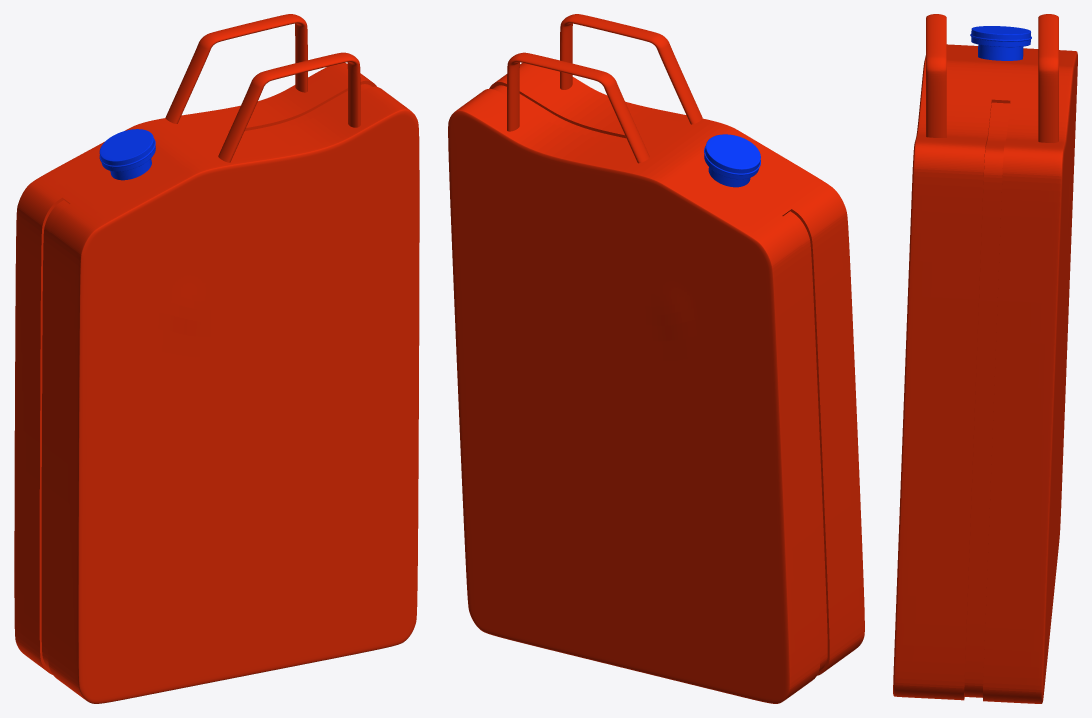
Rendered from petrolBottle.fbx.
3 renders of one model, left to right at view 1: azimuth 30°, elevation 25°; view 2: azimuth 150°, elevation 25°; view 3: azimuth 270°, elevation 25°, orthographic. The views are drawn at different scales.
Parts seen in each view (by area): view 1: Object.001, Plane.002, Plane.003, Cube.002; view 2: Object.001, Plane.003, Plane.002, Cube.002; view 3: Object.001, Plane.003, Plane.002, Cube.002.
Boxes of the visible parts, x1,y1,x2,y2 form: Object.001: [14, 62, 419, 703]; Plane.002: [218, 52, 360, 162]; Plane.003: [165, 14, 307, 123]; Cube.002: [99, 129, 155, 180]; Object.001: [448, 63, 864, 703]; Plane.003: [507, 52, 649, 163]; Plane.002: [560, 14, 702, 124]; Cube.002: [704, 134, 760, 187]; Object.001: [893, 44, 1077, 703]; Plane.003: [1038, 14, 1058, 142]; Plane.002: [926, 14, 946, 137]; Cube.002: [970, 26, 1031, 60].
Bounding box in the file's own units: 50.15 × 81.67 × 21.82.
